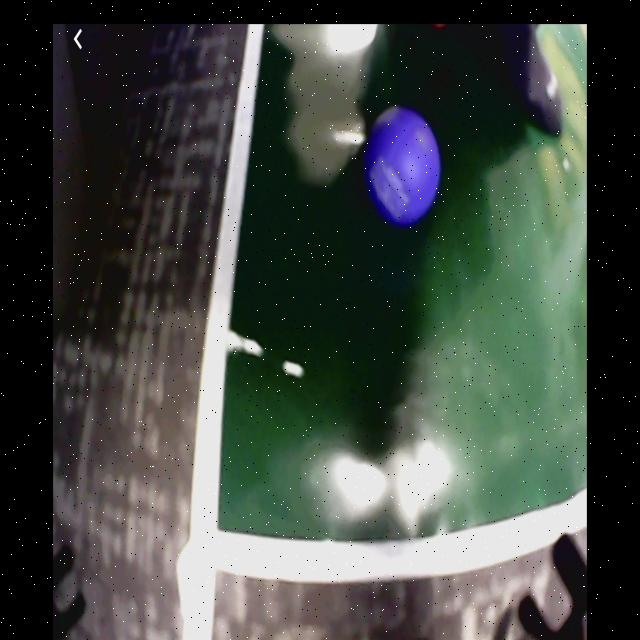ball: (366, 106, 441, 222)
